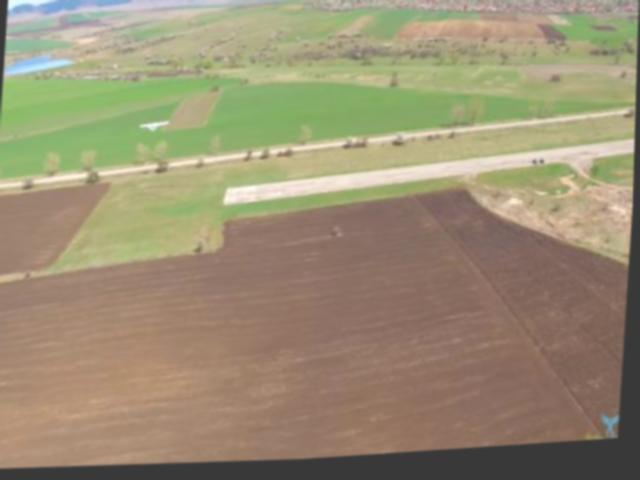uav: (136, 113, 174, 144)
